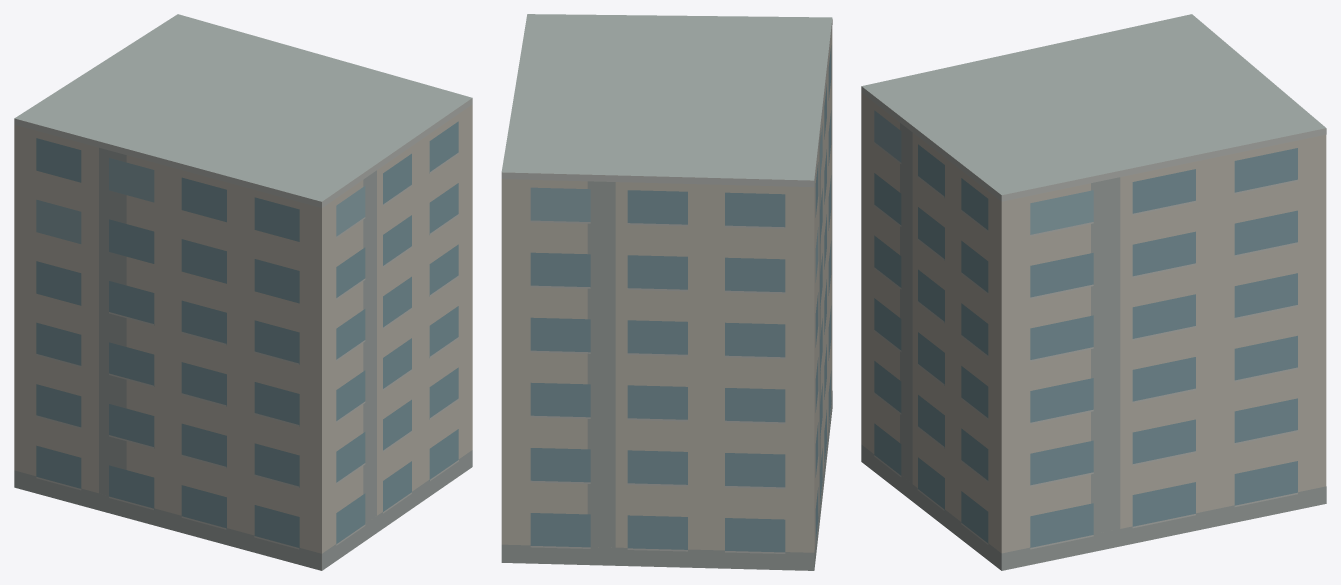
Rendered from survey-upis-33047642.glb.
3 views of the same model, side by side, from view 1: azimuth 30°, elevation 25°; view 2: azimuth 150°, elevation 25°; view 3: azimuth 270°, elevation 25° (orthographic). The views are drawn at different scales.
Parts seen in each view (by area): view 1: survey-upis-33047642.tmp; view 2: survey-upis-33047642.tmp; view 3: survey-upis-33047642.tmp.
Part boxes in pixels (box(x1,y1,x2,y2)): survey-upis-33047642.tmp: box(14, 14, 472, 570); survey-upis-33047642.tmp: box(501, 14, 832, 570); survey-upis-33047642.tmp: box(861, 14, 1326, 570).
Size of the model in its own units: 14.81 by 14.3 by 16.05.
